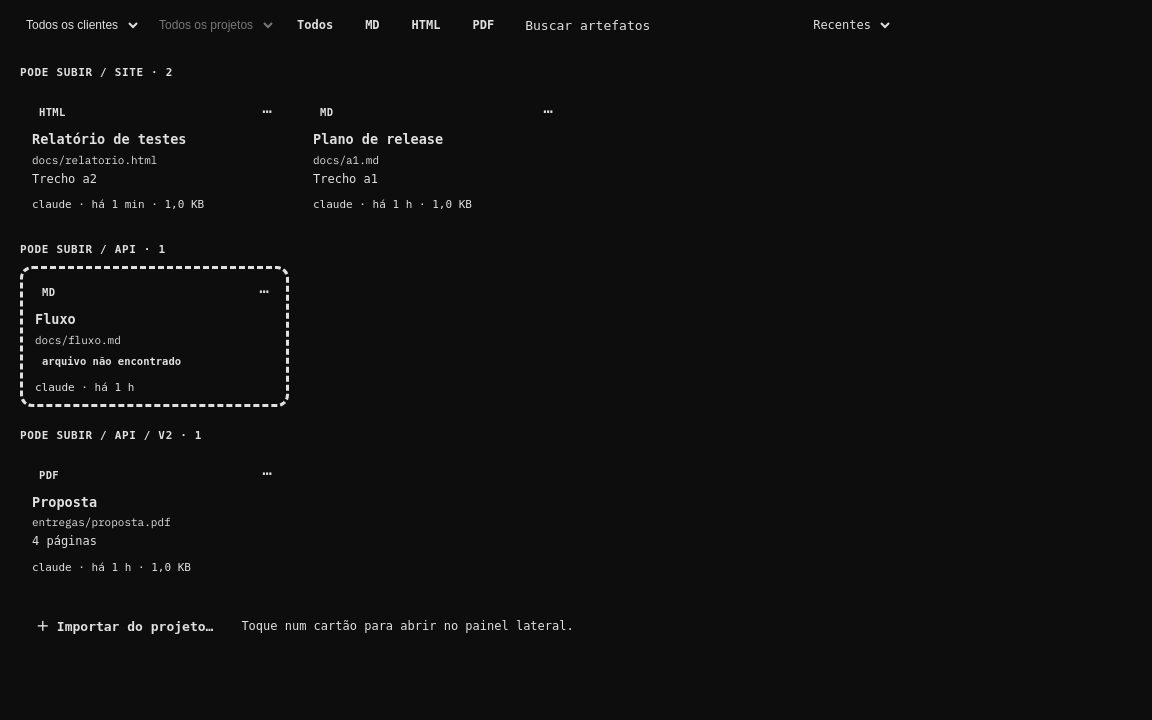
Scenario: ArtefatosV2 › chips de tipo e busca filtram; sem resultado mostra "Limpar filtros"
The image size is (1152, 720).
Click the button "PDF" at (483, 25), box [460,11,507,39]
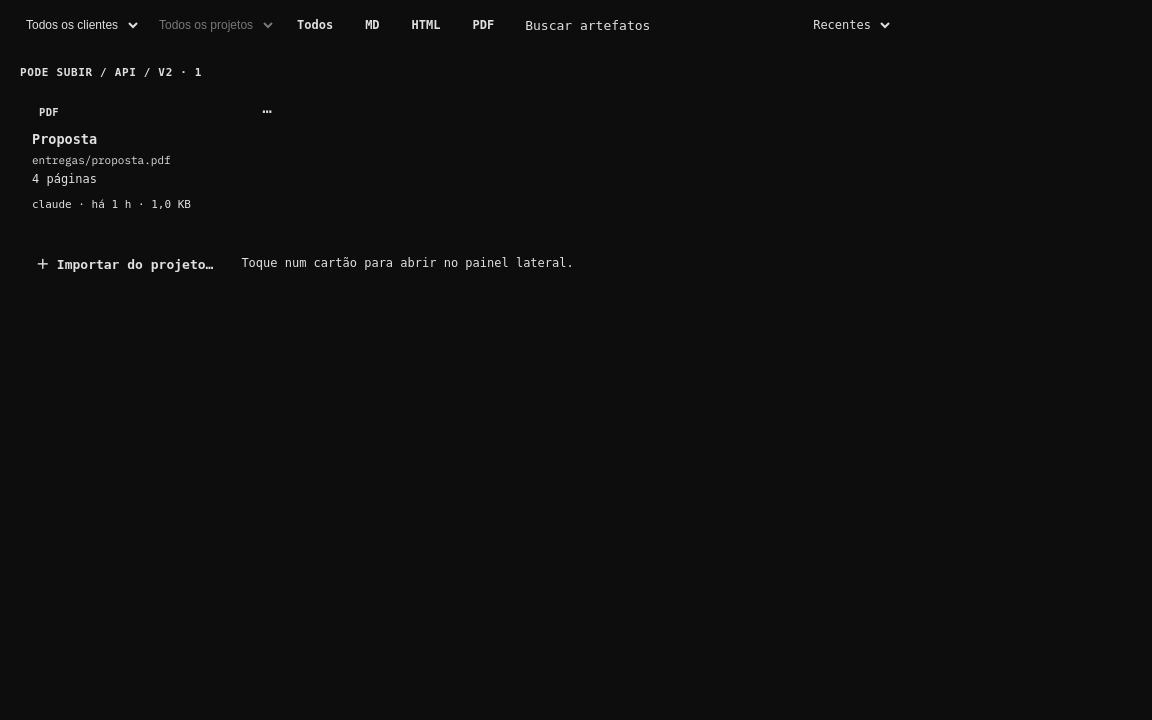
Expected: the button with test id "artifact-card-b1" is shown, [20,89,289,221]
Expected: the button with test id "artifact-card-a1" is gone
Click the button "Todos" at (315, 25), box [284,11,346,39]
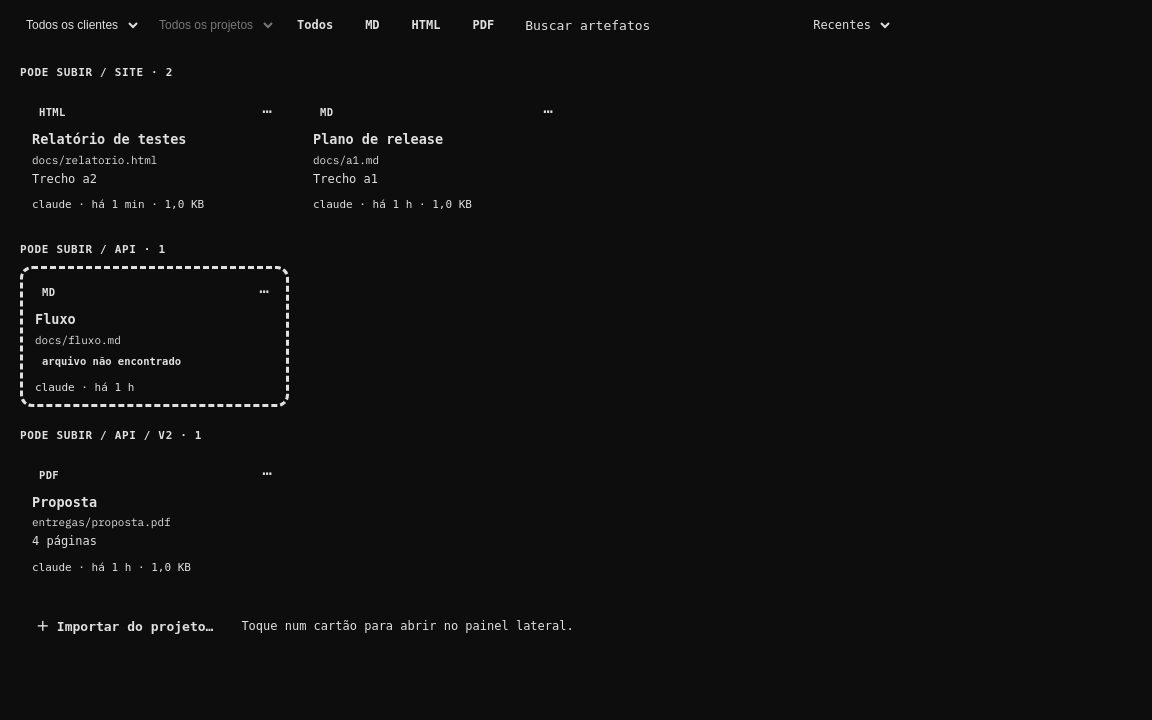
Type "relatorio" into the search field labelled "Buscar artefatos" at (655, 25), box [515,10,795,40]
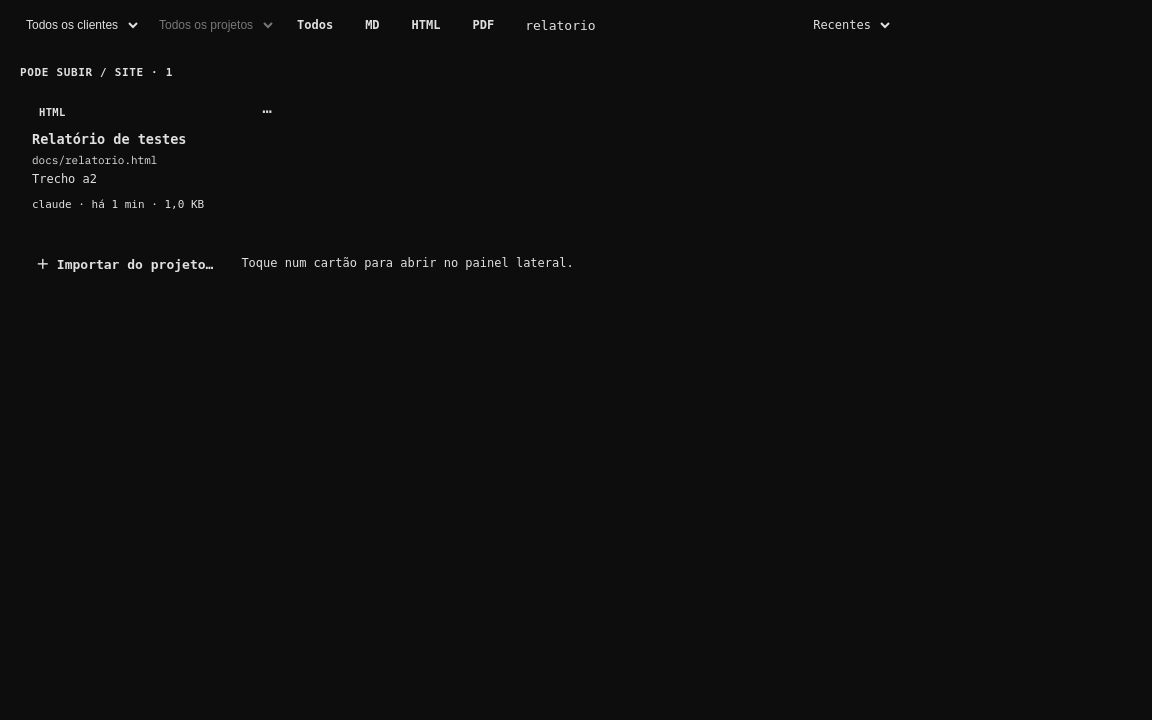
Expected: the button with test id "artifact-card-a2" is shown, [20,89,289,221]
Expected: the button with test id "artifact-card-a1" is gone
Replace the text in the search field named "Buscar artefatos" with "nada disso" at (655, 25), box [515,10,795,40]
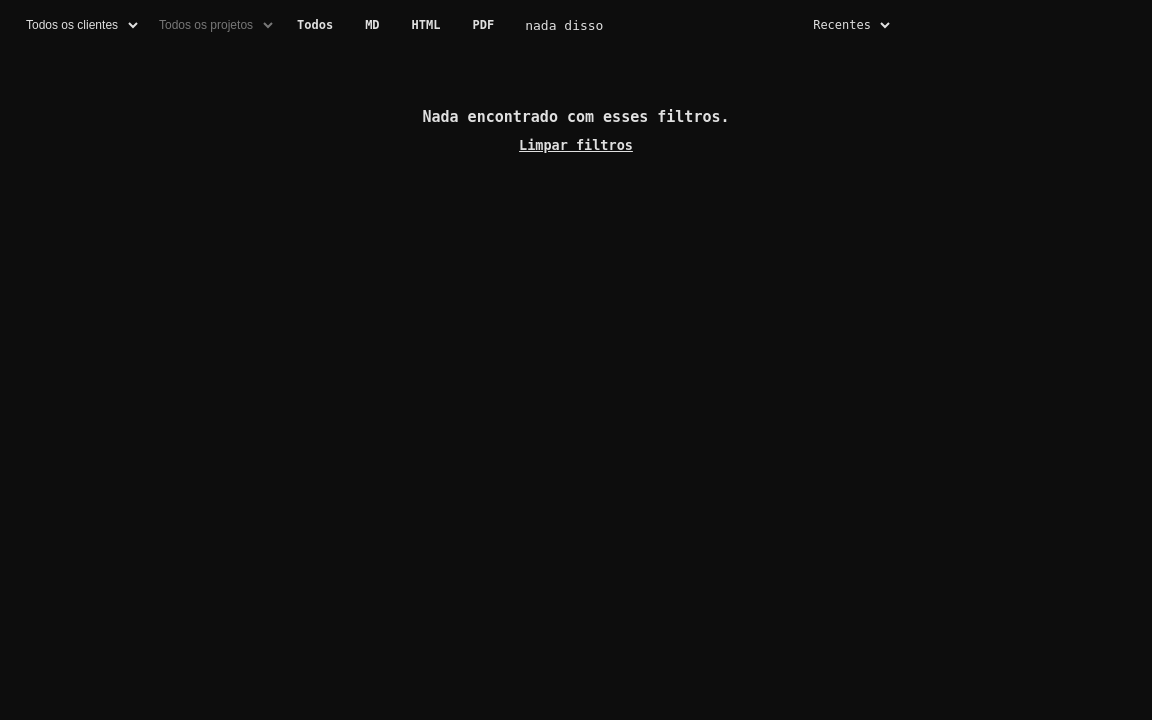
Expected: the element with test id "artifacts-empty-filter" is shown, [422,108,730,156]
Click the button "Limpar filtros" at (576, 146), box [519,135,633,156]
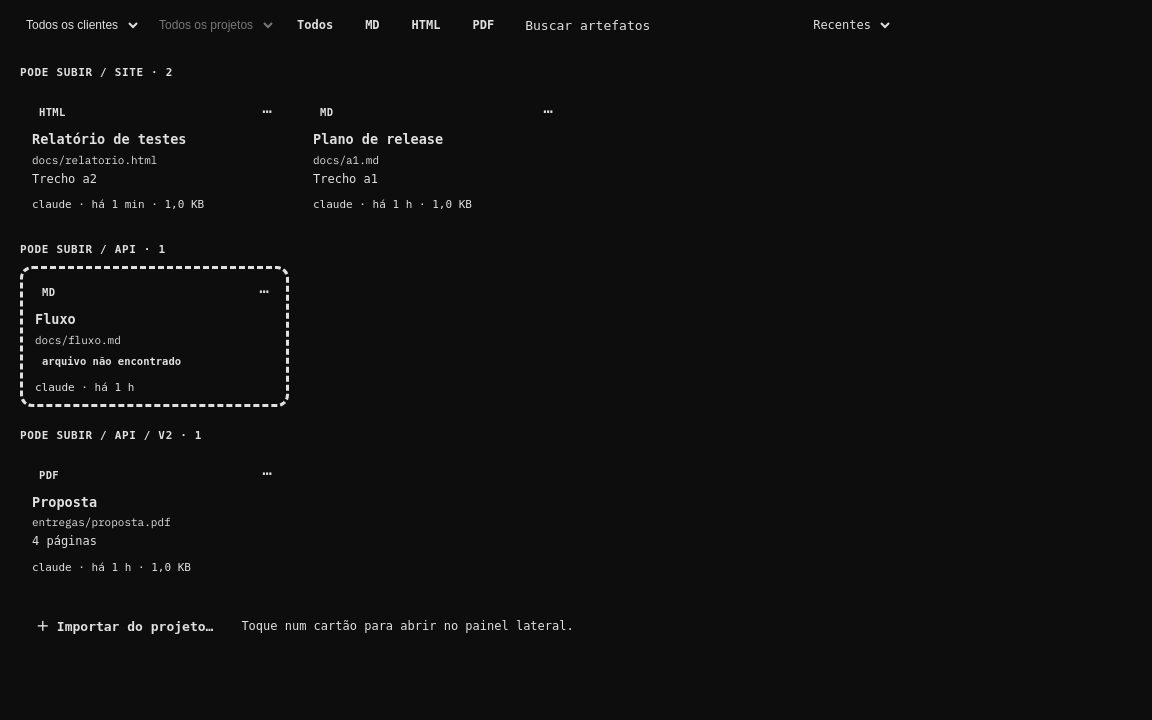
Expected: the button with test id "artifact-card-a1" is shown, [301,89,570,221]
